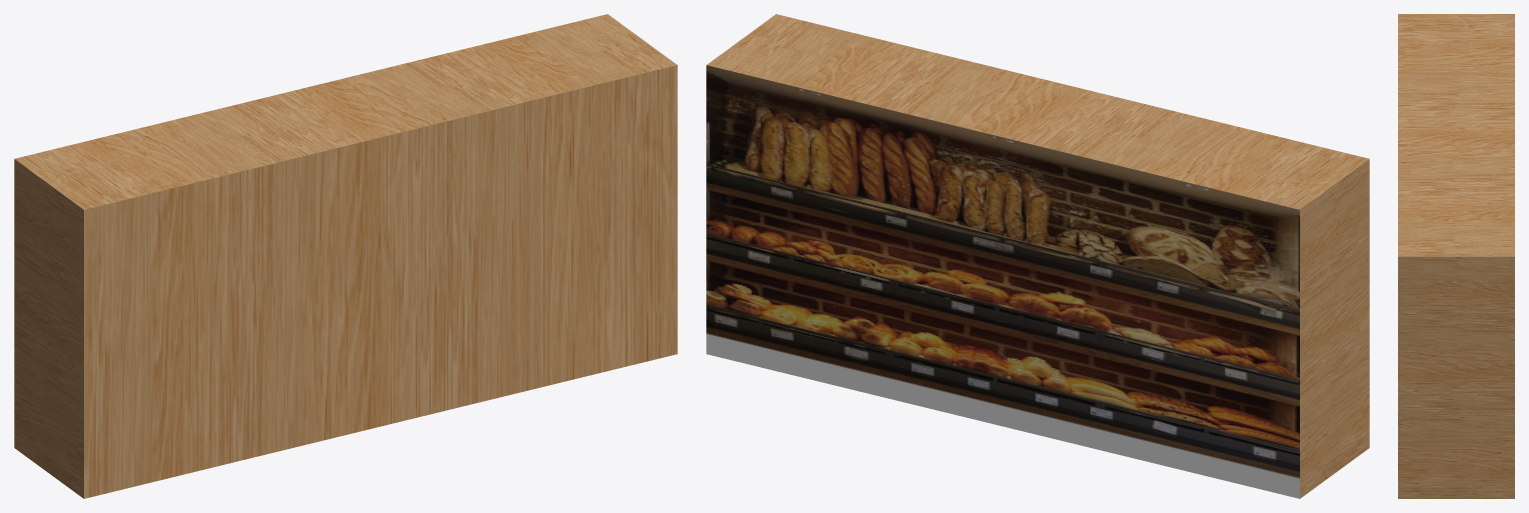
File: bakerycorner.fbx
The picture shows the model from 3 angles, left to right: view 1: azimuth 30°, elevation 25°; view 2: azimuth 150°, elevation 25°; view 3: azimuth 270°, elevation 25°; orthographic projection. The views are drawn at different scales.
Visible parts, largest first — view 1: Kabinet 1 (main_stage).001; view 2: Kabinet 1 (main_stage).001; view 3: Kabinet 1 (main_stage).001.
Boxes of the visible parts, left/top/right/bottom form: Kabinet 1 (main_stage).001: left=14, top=14, right=677, bottom=498; Kabinet 1 (main_stage).001: left=706, top=14, right=1369, bottom=498; Kabinet 1 (main_stage).001: left=1398, top=14, right=1514, bottom=498.
Bounding box in the file's own units: 6.51 × 3.03 × 1.32.
